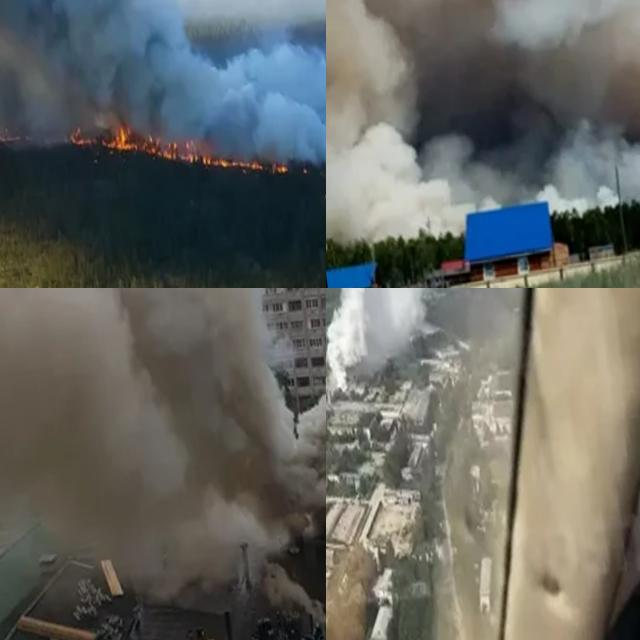smoke: (0, 288, 326, 621), (326, 0, 640, 265), (0, 0, 326, 238), (326, 288, 452, 390)
